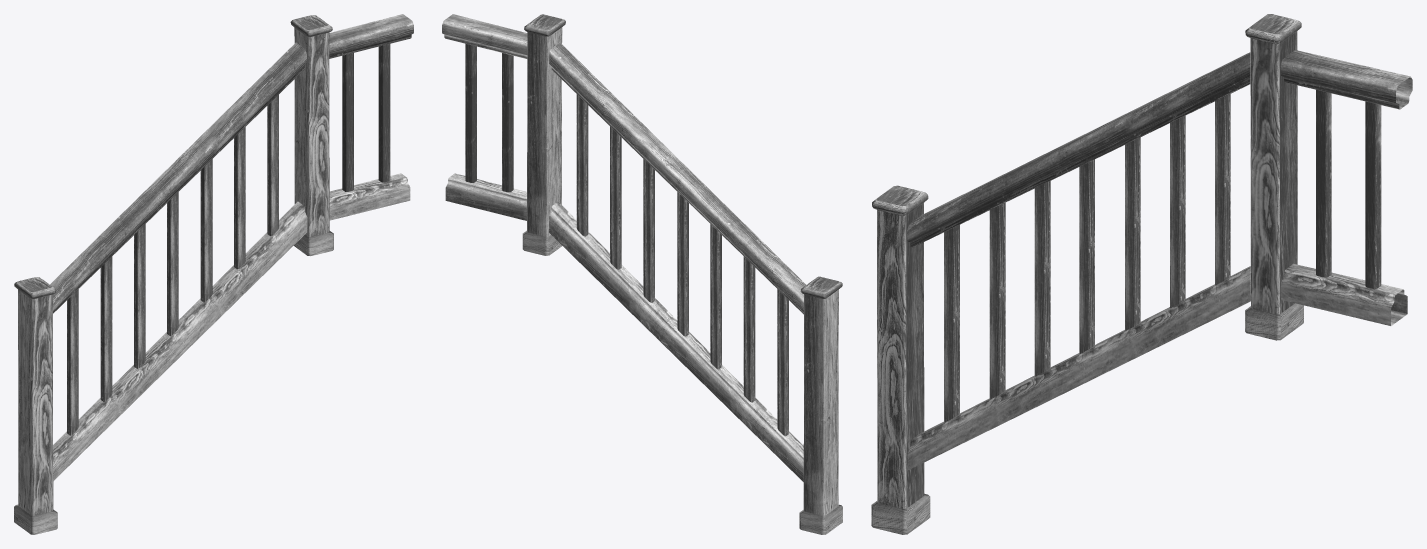
File: SM_Stairs_Railing_A1.fbx
The picture shows the model from 3 angles, left to right: view 1: azimuth 30°, elevation 25°; view 2: azimuth 150°, elevation 25°; view 3: azimuth 330°, elevation 25°; orthographic projection. The views are drawn at different scales.
Parts seen in each view (by area): view 1: SM_Stairs_Railing_A1; view 2: SM_Stairs_Railing_A1; view 3: SM_Stairs_Railing_A1.
Part boxes in pixels (left/top/right/bottom): SM_Stairs_Railing_A1: left=14, top=14, right=413, bottom=534; SM_Stairs_Railing_A1: left=442, top=14, right=842, bottom=534; SM_Stairs_Railing_A1: left=871, top=14, right=1412, bottom=534.
Bounding box in the file's own units: 131 × 11.38 × 141.
Materials: 1 (1 with a texture image).
